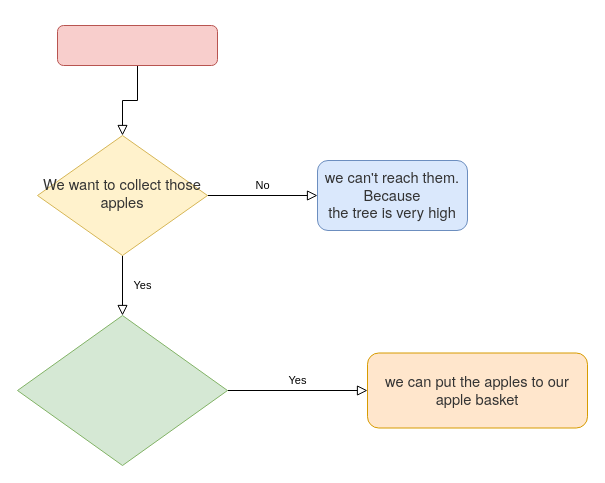
The diagram is 605 pixels wide and 483 high, and some of its shapes have lost their labels. The centre of each missing label's shape, as x and y in pixels:
"There is a tree with big, juicy and red apples on it" goes at point 137,45.
"We have to shake the tree to drop apples." goes at point 122,390.
